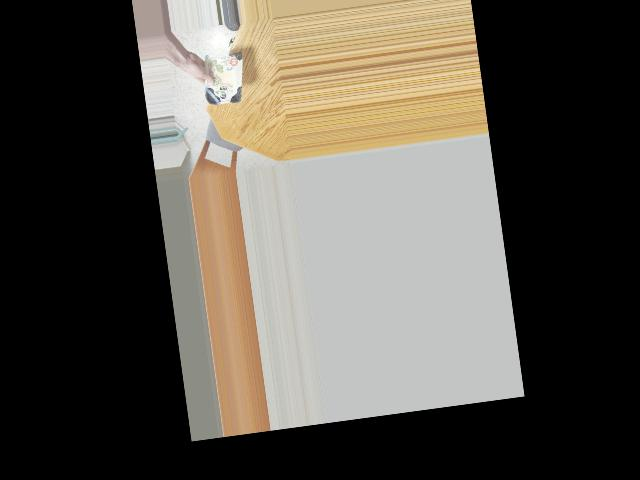cheese: (197, 44, 249, 113)
